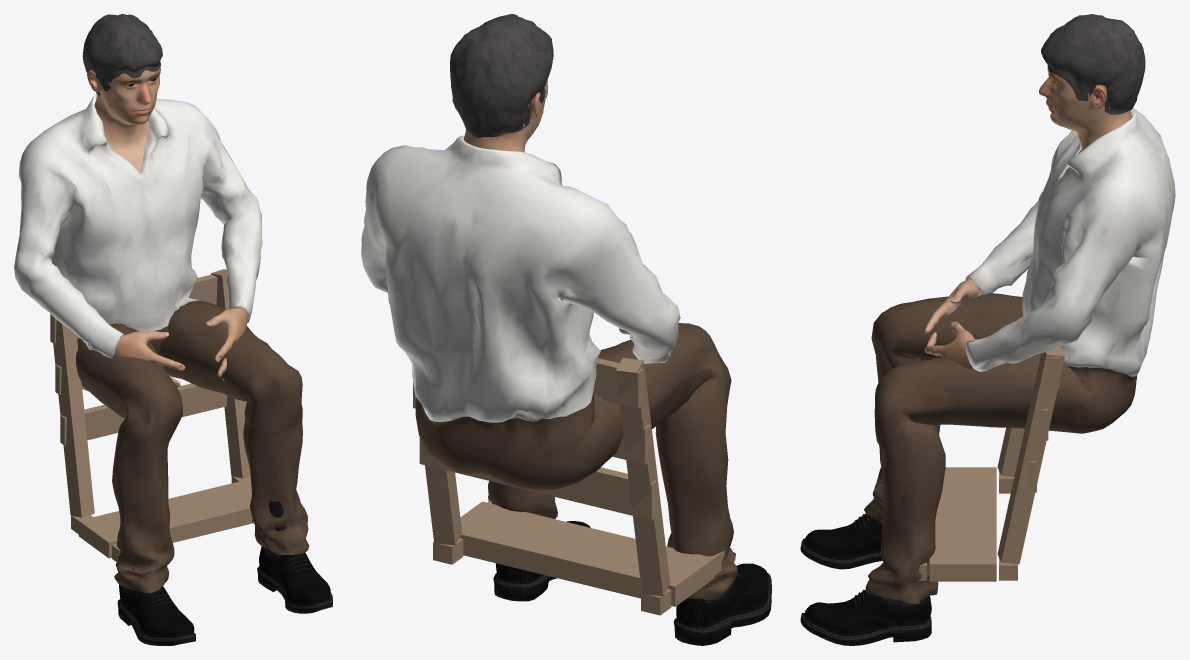
File: seated-man-1951-d.glb
The picture shows the model from 3 angles, left to right: view 1: azimuth 30°, elevation 25°; view 2: azimuth 150°, elevation 25°; view 3: azimuth 270°, elevation 25°; orthographic projection. The views are drawn at different scales.
Parts seen in each view (by area): view 1: Human.male_shirt1951d.001, chair, Human.001, Human.shoes03.001, Human.short02.001; view 2: Human.male_shirt1951d.001, chair, Human.short02.001, Human.shoes03.001, Human.001; view 3: Human.male_shirt1951d.001, chair, Human.shoes03.001, Human.short02.001, Human.001.
Boxes of the visible parts, x1,y1,x2,y2 form: Human.male_shirt1951d.001: (14,94,309,593); chair: (50,269,253,562); Human.001: (87,67,247,387); Human.shoes03.001: (117,501,332,645); Human.short02.001: (82,14,162,95); Human.male_shirt1951d.001: (361,135,737,600); chair: (413,358,724,615); Human.short02.001: (450,14,553,137); Human.shoes03.001: (493,521,771,645); Human.001: (463,78,629,334); Human.male_shirt1951d.001: (864,108,1175,603); chair: (918,347,1064,581); Human.shoes03.001: (800,514,931,645); Human.short02.001: (1041,14,1145,114); Human.001: (924,64,1131,369).
Size of the model in its own units: 0.7299 by 1.5 by 0.8873.
Materials: 7 (6 with a texture image).
